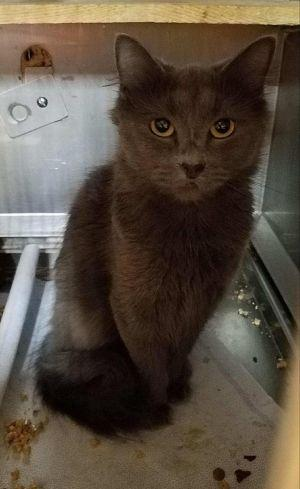rblue: (105, 25, 285, 212)
